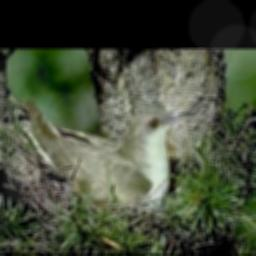Cuckoo: (27, 99, 198, 210)
